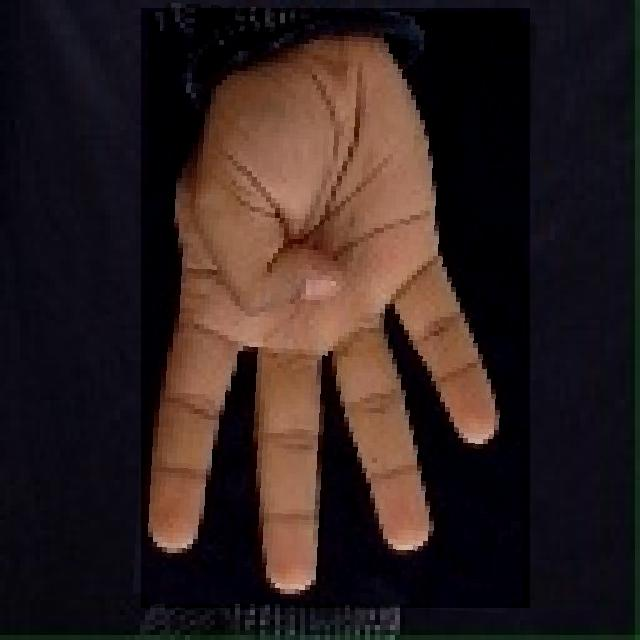Thanks: (141, 8, 530, 608)
